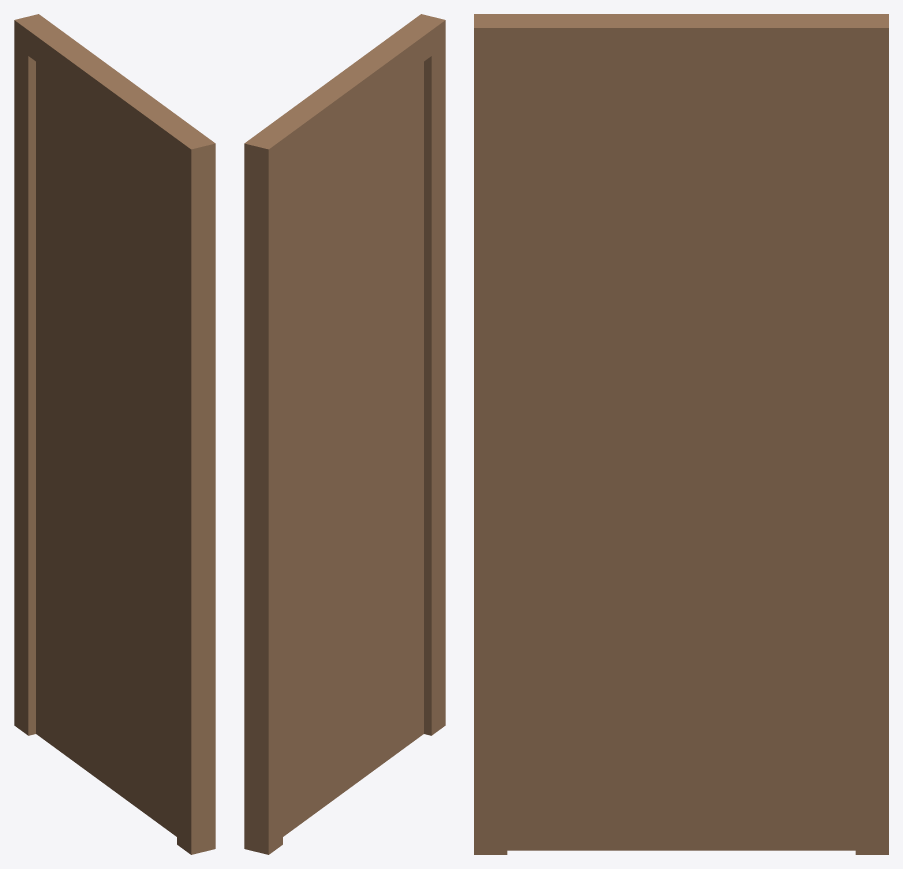
Rendered from bim-component-openhouse-ifcopenhouse-ifc4-ifcdoor-01.meshopt.glb.
3 views of the same model, side by side, from view 1: azimuth 30°, elevation 25°; view 2: azimuth 150°, elevation 25°; view 3: azimuth 270°, elevation 25° (orthographic). The views are drawn at different scales.
Visible parts, largest first — view 1: IfcDoor_2441; view 2: IfcDoor_2441; view 3: IfcDoor_2441.
Boxes of the visible parts, x1,y1,x2,y2 form: IfcDoor_2441: (14, 14, 215, 854); IfcDoor_2441: (244, 14, 445, 854); IfcDoor_2441: (474, 14, 888, 854).
Bounding box in the file's own units: 0.0655 × 1.8 × 0.8181.
